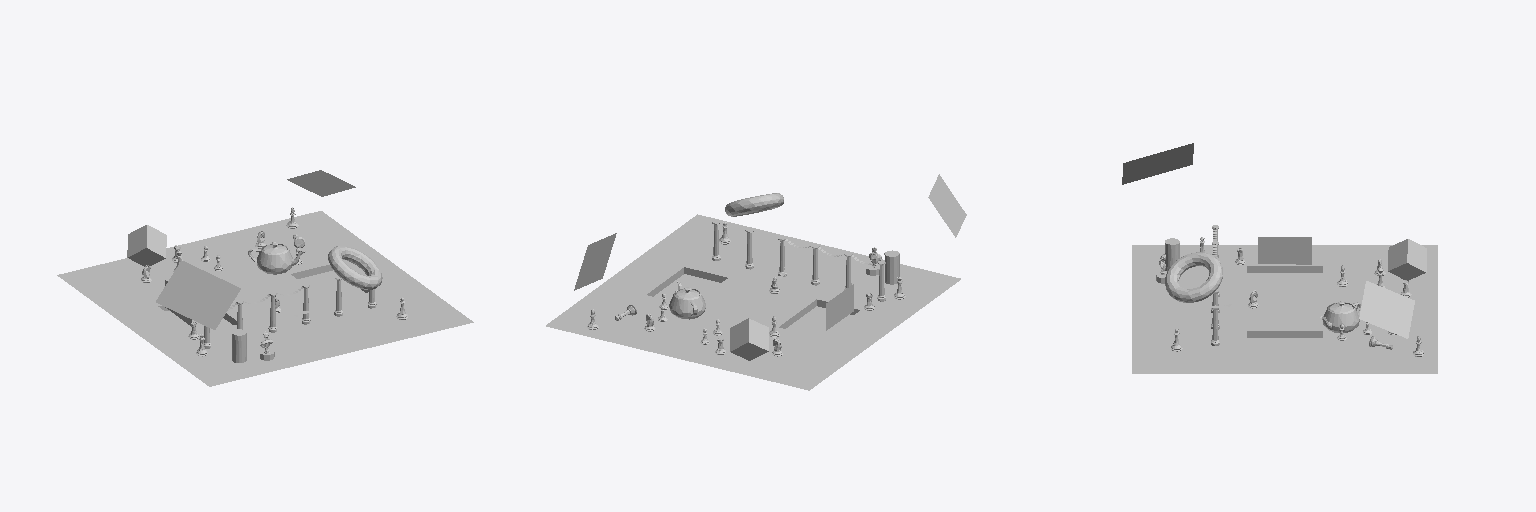
The model's file is LowQuality.obj.
The picture shows the model from 3 angles: view 1: azimuth 30°, elevation 25°; view 2: azimuth 150°, elevation 25°; view 3: azimuth 270°, elevation 25°; orthographic projection.
Parts seen in each view (by area): view 1: LowRes; view 2: LowRes; view 3: LowRes.
Boxes of the visible parts, x1,y1,x2,y2 form: LowRes: [57, 170, 473, 386]; LowRes: [546, 174, 966, 390]; LowRes: [1122, 143, 1437, 373].
Size of the model in its own units: 43.62 by 16.16 by 41.33.